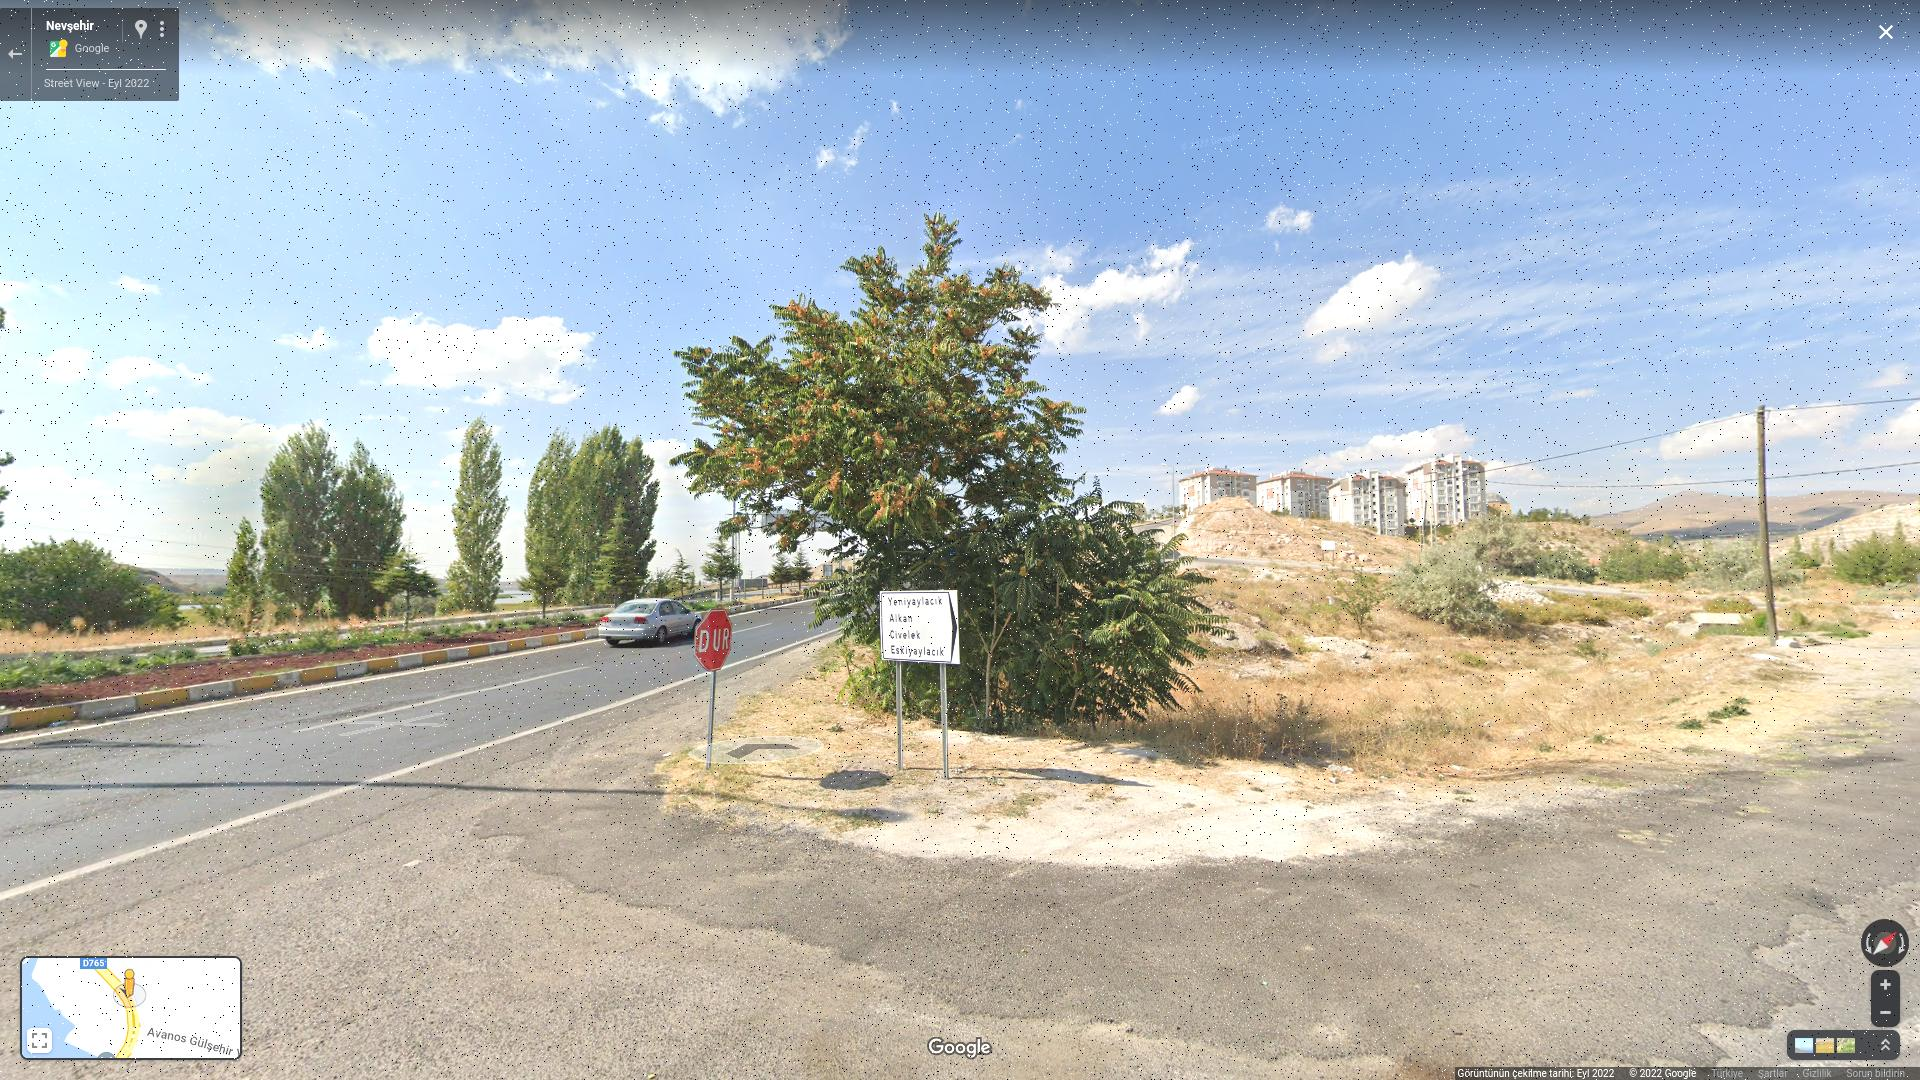stop: (696, 611, 733, 673)
